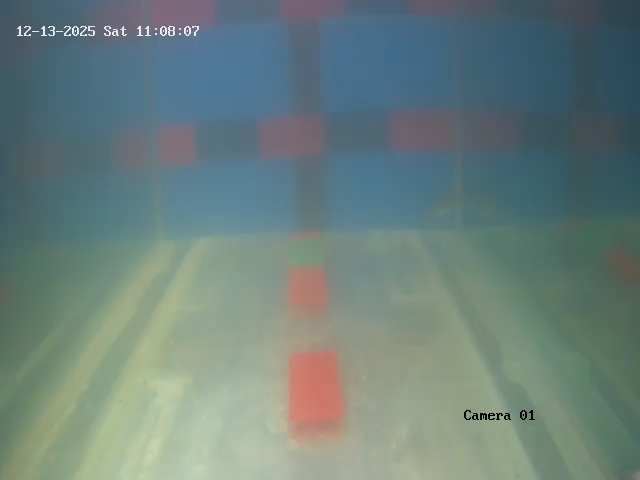fish: (428, 193, 459, 223)
